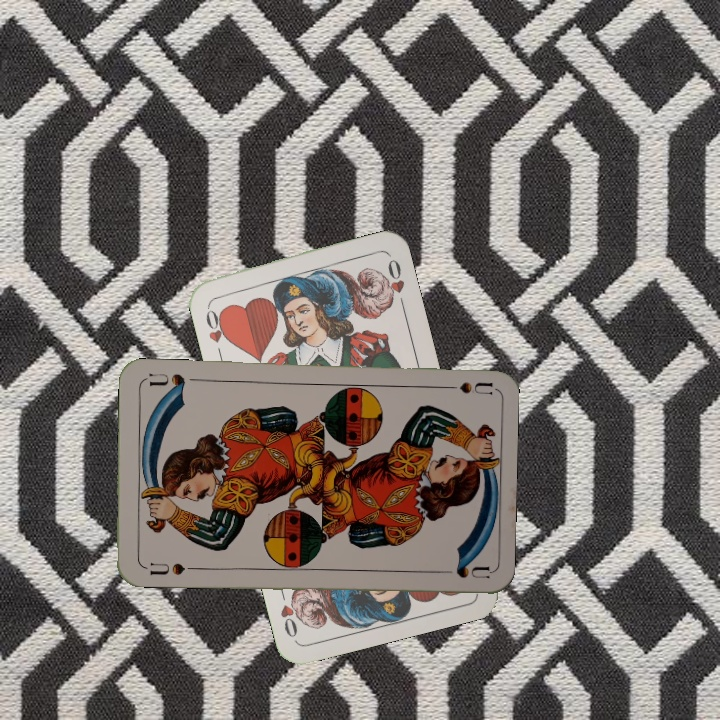HO: (201, 301, 233, 359)
SU: (434, 378, 493, 398), (139, 559, 198, 578)
